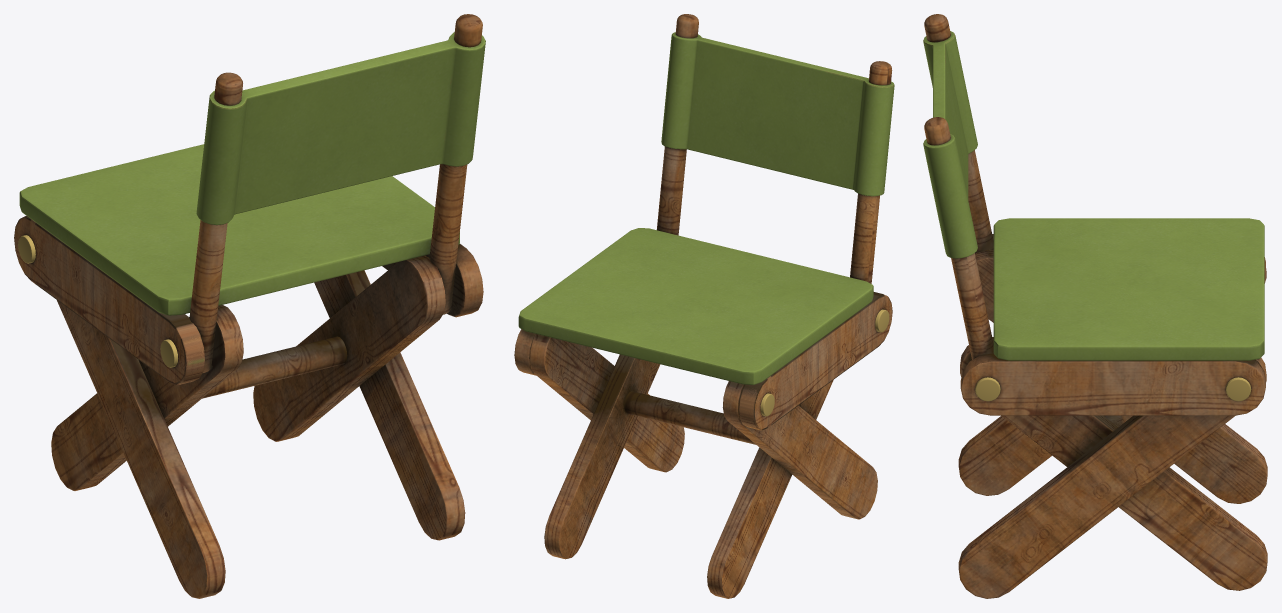
The model's file is woodenChair.glb.
The picture shows the model from 3 angles, left to right: view 1: azimuth 30°, elevation 25°; view 2: azimuth 150°, elevation 25°; view 3: azimuth 270°, elevation 25°; orthographic projection. The views are drawn at different scales.
Parts seen in each view (by area): view 1: pCube6; view 2: pCube6; view 3: pCube6.
Boxes of the visible parts, x1,y1,x2,y2 form: pCube6: (14, 14, 485, 598); pCube6: (514, 14, 894, 598); pCube6: (923, 14, 1267, 598).
Size of the model in its own units: 0.1019 by 0.1722 by 0.1129.
1 material, 1 textured.
